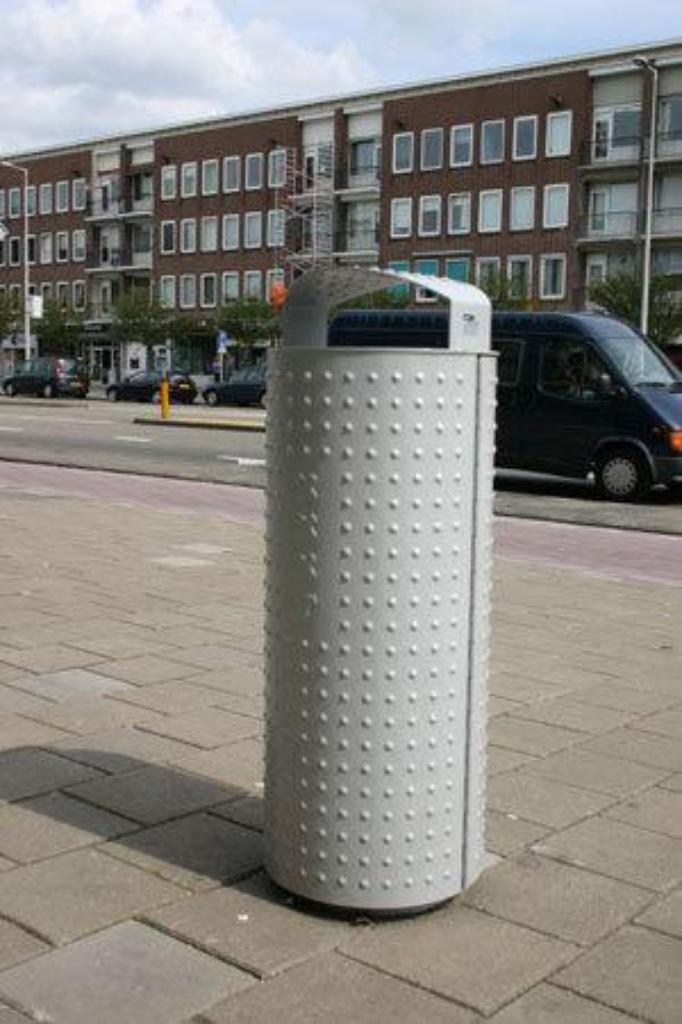dustbin: (224, 246, 530, 944)
